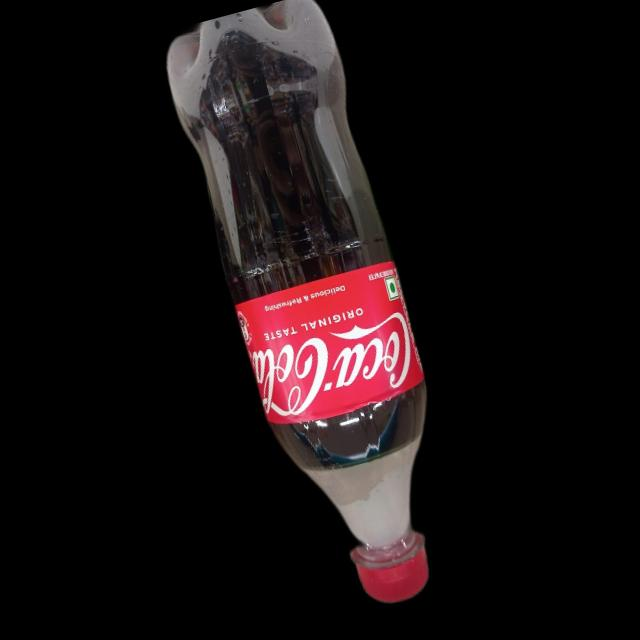Coca-Cola-600 ml-: (148, 0, 480, 624)
